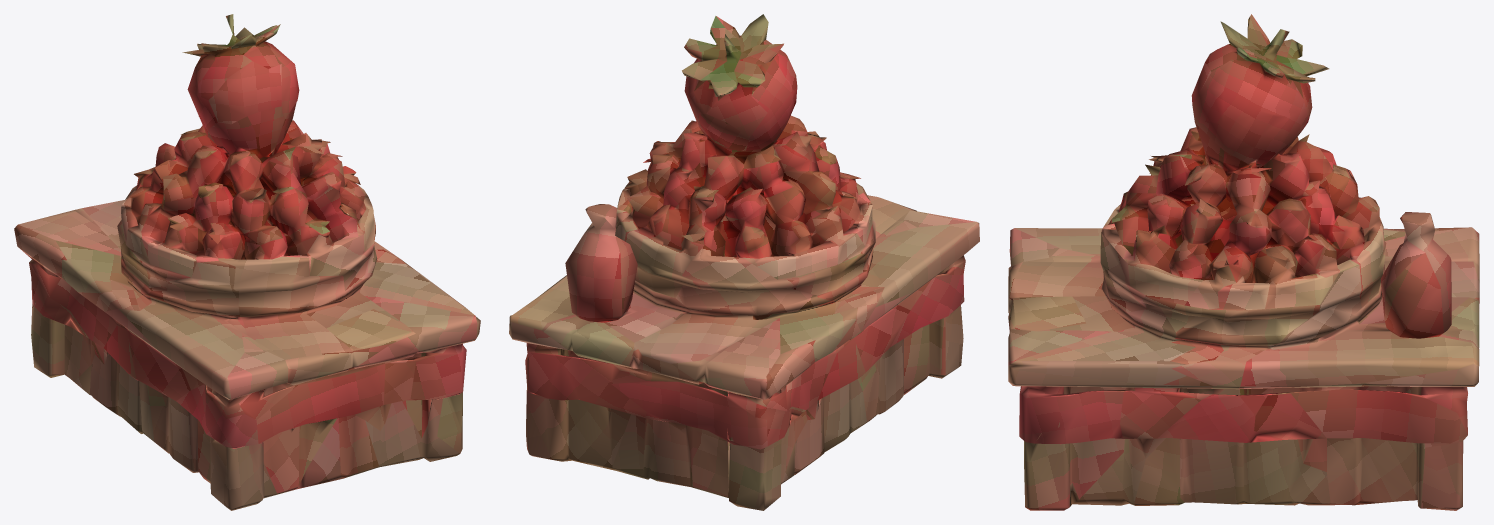
Rendered from JP_사물_s2_station_topping_t2.glb.
3 views of the same model, side by side, from view 1: azimuth 30°, elevation 25°; view 2: azimuth 150°, elevation 25°; view 3: azimuth 270°, elevation 25° (orthographic). The views are drawn at different scales.
Parts seen in each view (by area): view 1: tripo_node_084646b0-9849-4c96-8554-d8c5b5451a0a; view 2: tripo_node_084646b0-9849-4c96-8554-d8c5b5451a0a; view 3: tripo_node_084646b0-9849-4c96-8554-d8c5b5451a0a.
Boxes of the visible parts, x1,y1,x2,y2 form: tripo_node_084646b0-9849-4c96-8554-d8c5b5451a0a: (14, 14, 480, 510); tripo_node_084646b0-9849-4c96-8554-d8c5b5451a0a: (509, 14, 979, 510); tripo_node_084646b0-9849-4c96-8554-d8c5b5451a0a: (1008, 14, 1479, 510).
Bounding box in the file's own units: 0.6967 × 0.9949 × 0.9999.
1 material, 1 textured.
